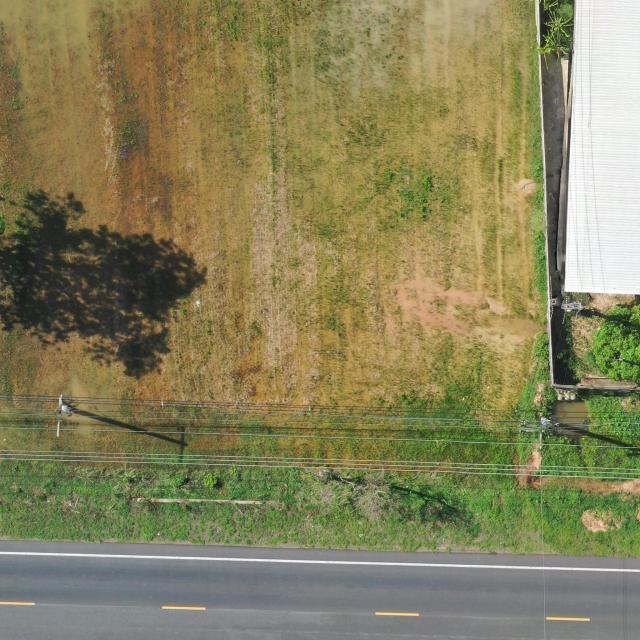Tree: (591, 302, 640, 386), (539, 31, 570, 70), (544, 12, 574, 38)
